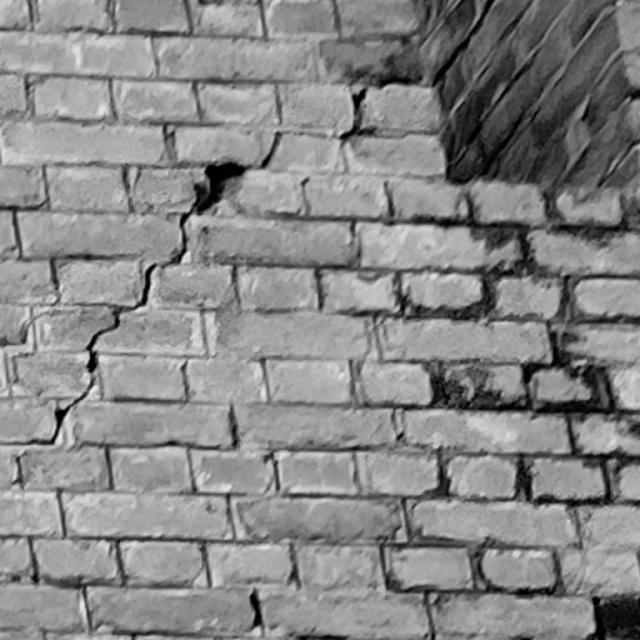crack: (14, 1, 493, 484)
